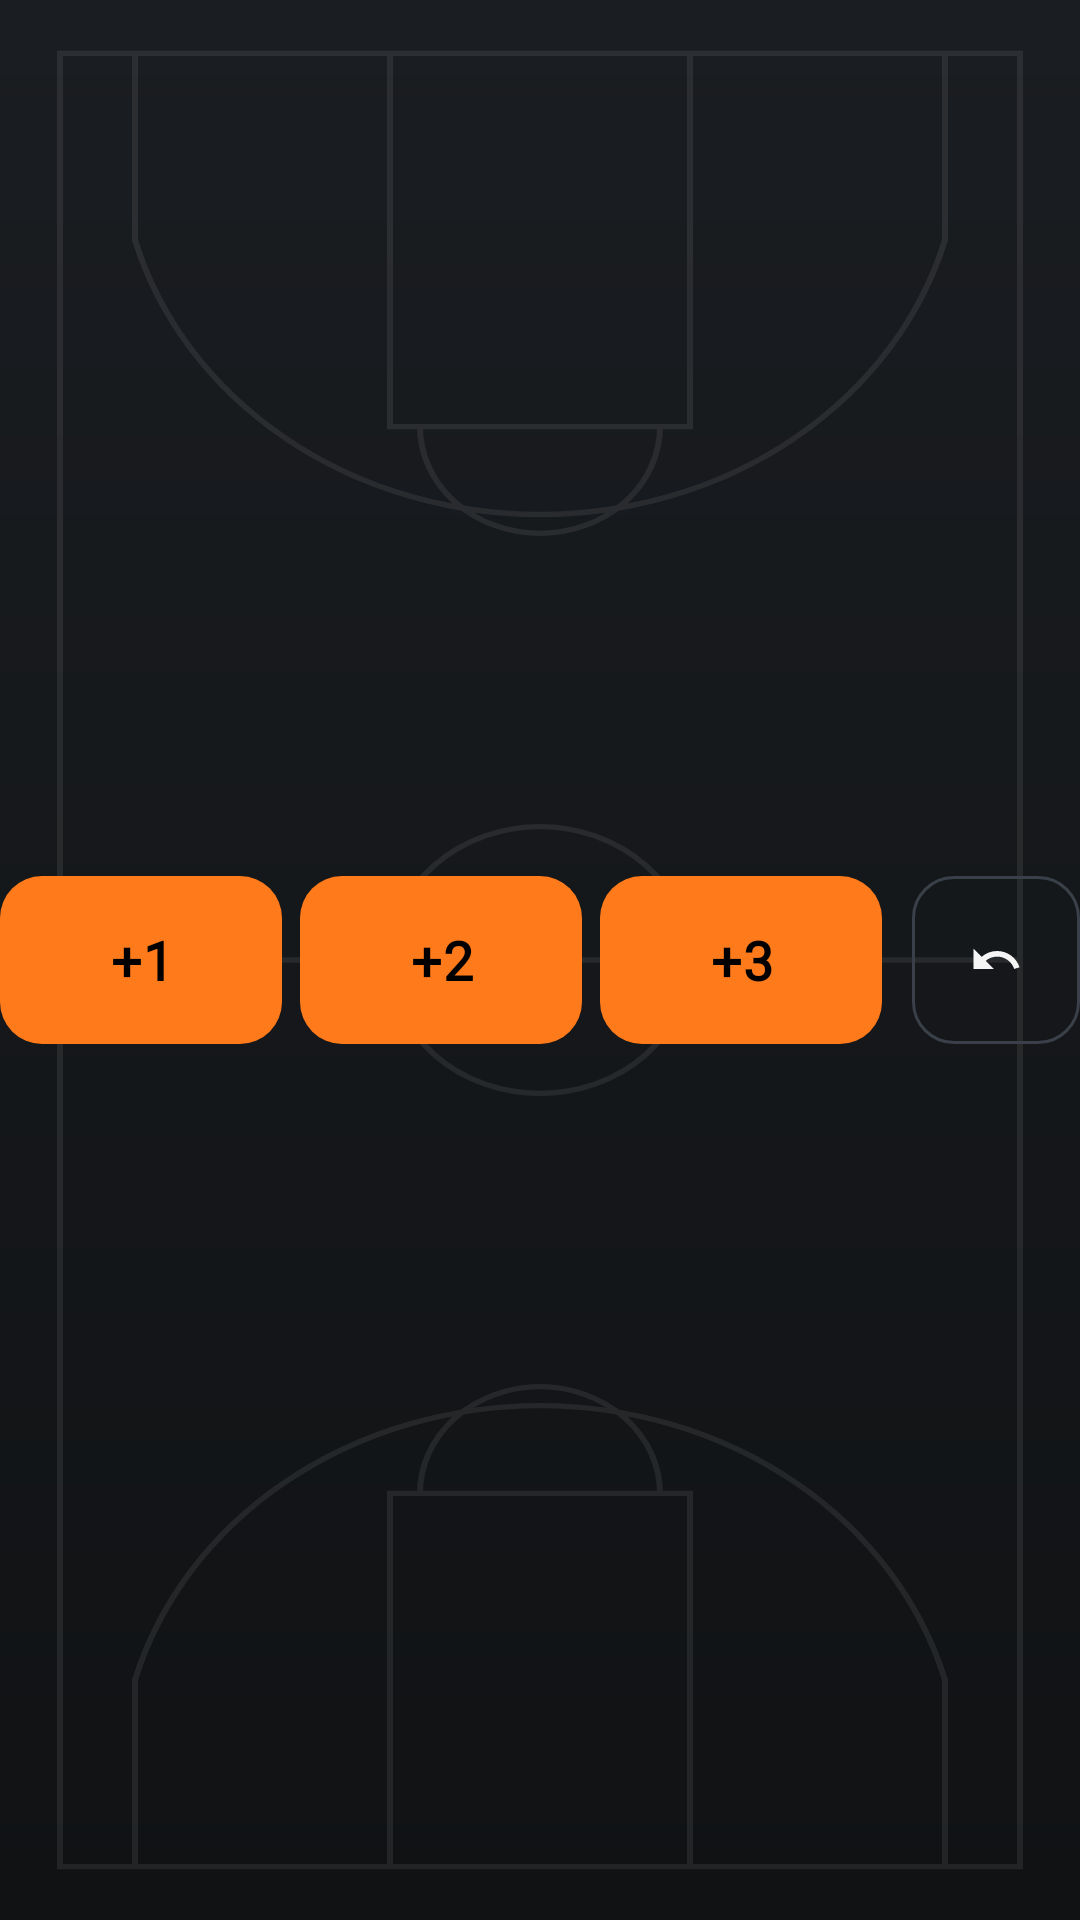

Icons on this 1080 x 1920 Android screen, each with the point to tap as [x,y]:
Desfazer última cesta do time: [996,960]
